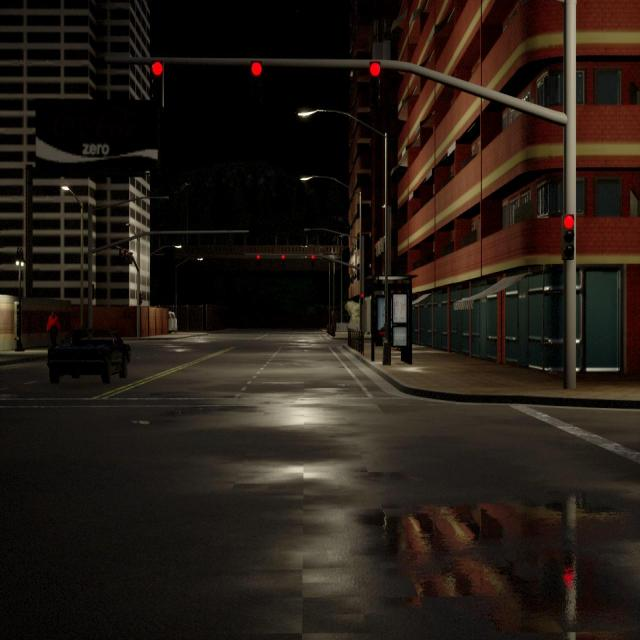Pedestrian: (47, 311, 60, 347)
Vehicle: (48, 328, 130, 383), (168, 312, 178, 334)
traffic_light: (562, 212, 576, 263), (369, 61, 380, 99), (251, 61, 262, 98), (152, 60, 162, 100), (119, 249, 123, 265), (124, 250, 128, 266), (311, 254, 315, 266), (360, 293, 364, 305), (139, 293, 143, 305), (129, 252, 133, 264), (256, 254, 260, 265), (281, 254, 285, 265)
